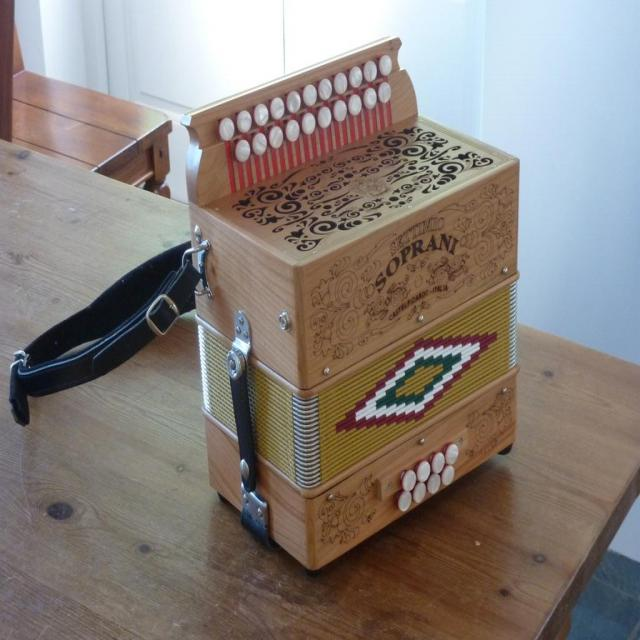table: (0, 138, 639, 639)
